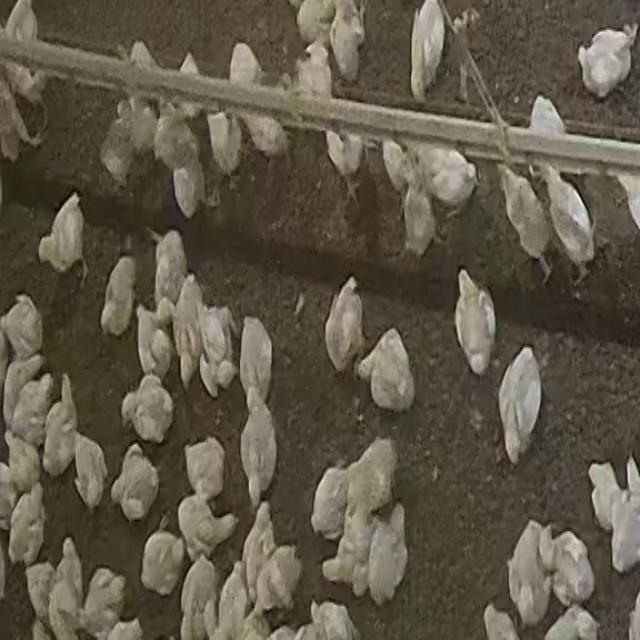chicken: (491, 160, 555, 285), (535, 164, 597, 284), (498, 342, 544, 465), (454, 265, 498, 377), (358, 328, 414, 413), (320, 273, 366, 375), (238, 392, 278, 509), (37, 192, 86, 283), (366, 502, 408, 608), (419, 144, 479, 214), (110, 441, 159, 525), (173, 276, 208, 392), (196, 301, 238, 397), (177, 496, 239, 559), (42, 375, 80, 477), (177, 552, 220, 640), (410, 1, 447, 100), (324, 128, 366, 208), (206, 110, 245, 196), (138, 527, 185, 597), (400, 173, 436, 263), (8, 484, 48, 564), (182, 437, 228, 506), (238, 316, 274, 403), (100, 256, 138, 338), (72, 432, 110, 514), (328, 0, 366, 80), (135, 304, 173, 384), (0, 293, 44, 362), (153, 230, 188, 314), (294, 41, 333, 102)
